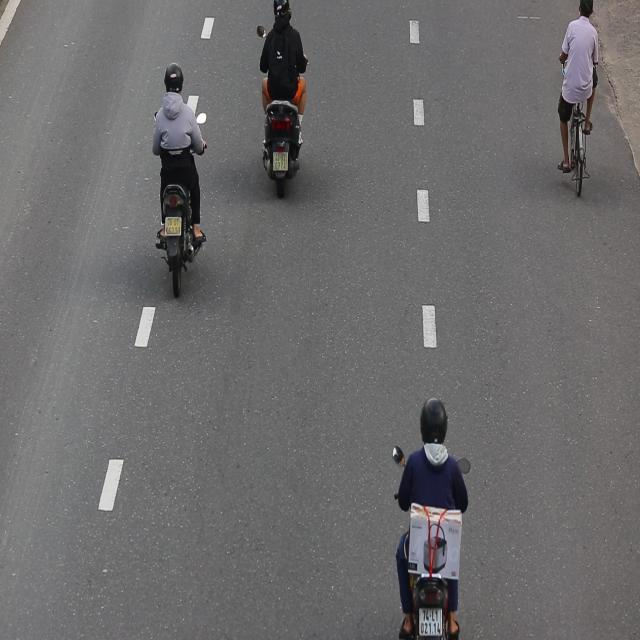motorbike: (387, 391, 473, 638), (152, 58, 212, 302), (254, 0, 312, 199)
